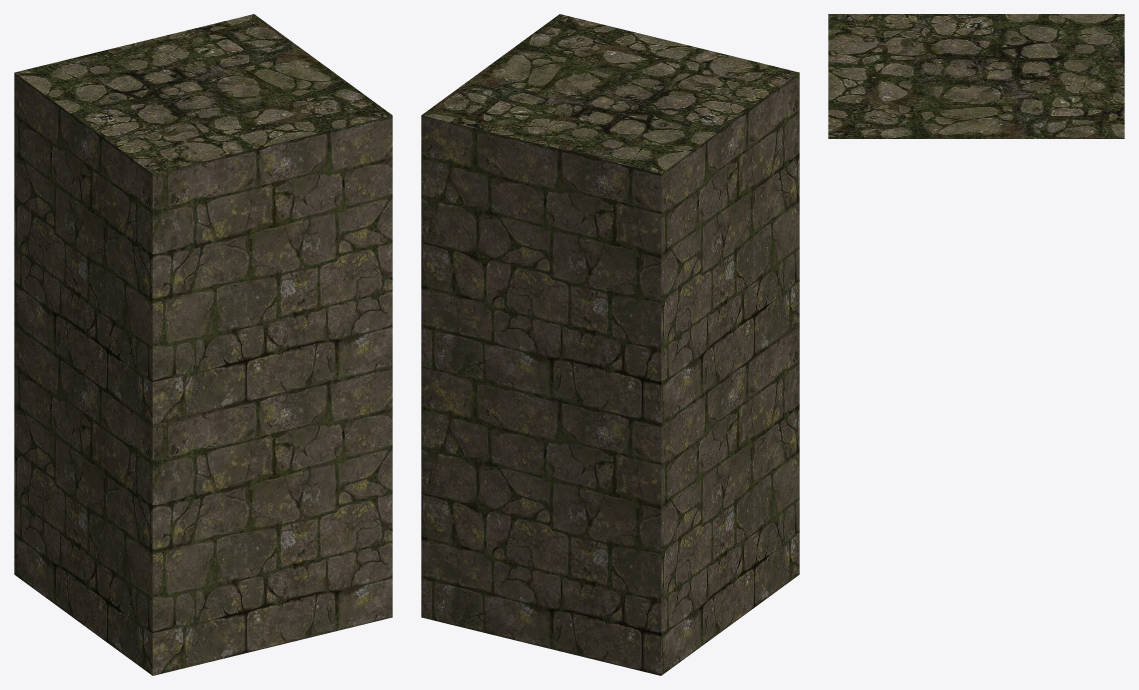
File: Base_Balcony_High_03_Walls-transformed.glb
The picture shows the model from 3 angles, left to right: view 1: azimuth 30°, elevation 25°; view 2: azimuth 150°, elevation 25°; view 3: azimuth 270°, elevation 25°; orthographic projection. The views are drawn at different scales.
Visible parts, largest first — view 1: default; view 2: default; view 3: default.
Boxes of the visible parts, x1=… form: default: x1=14, y1=14, x2=392, y2=675; default: x1=421, y1=14, x2=799, y2=675; default: x1=828, y1=14, x2=1124, y2=138.
Bounding box in the file's own units: 4 × 8 × 4.
Materials: 2 (2 with a texture image).
